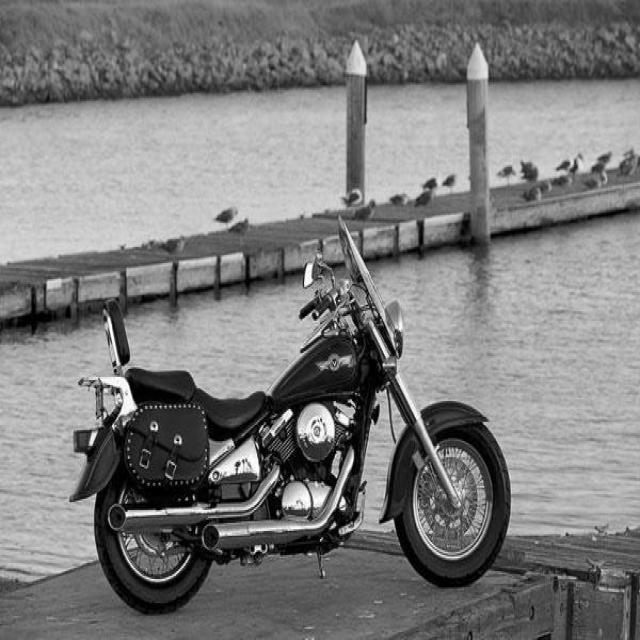Motorcycle: (69, 223, 510, 614)
